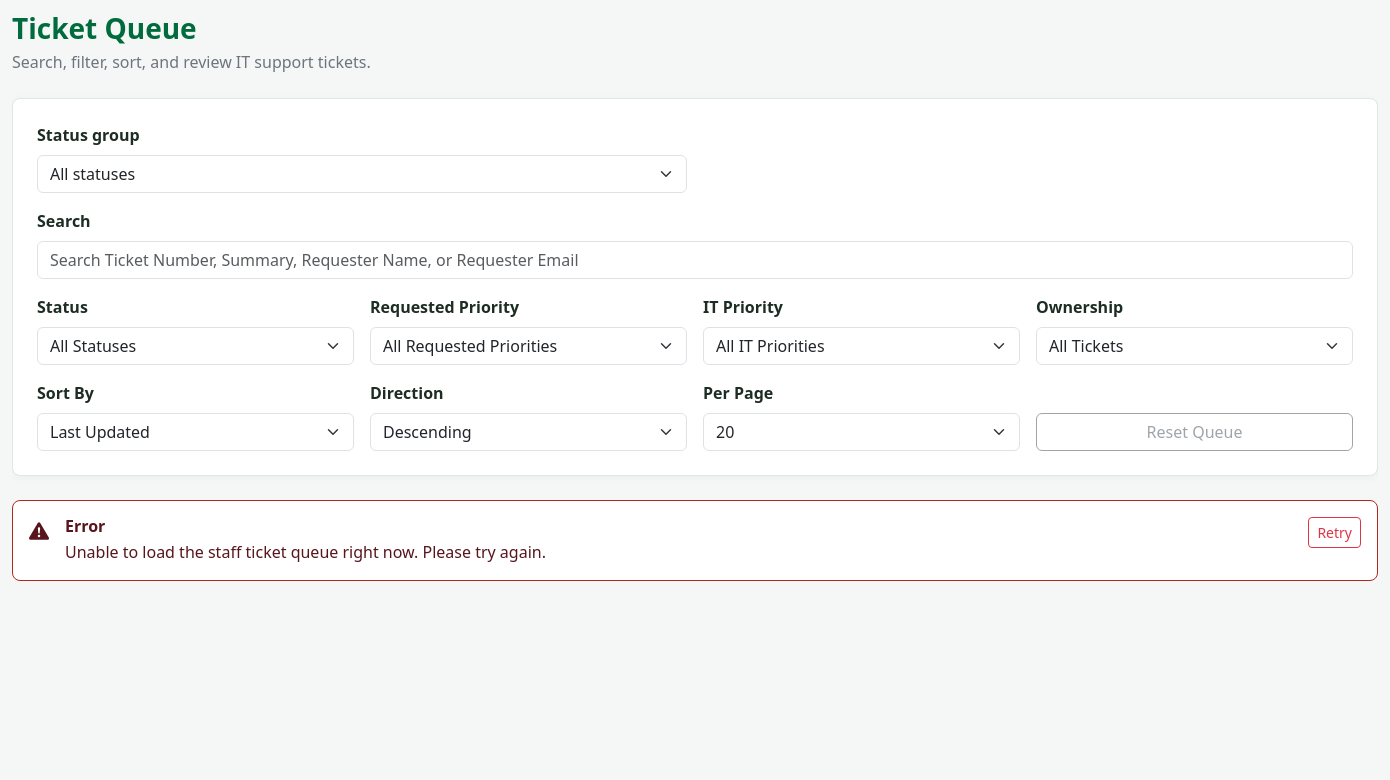
Test: Lab 3 Staff Ticket Queue UI › shows a safe failure state and supports retry
Expected: the text "Unable to load the staff ticket queue right now. Please try again." is shown, [65,541,546,563]
Click the button "Retry".
click(1335, 532)  # box [1308,517,1361,548]
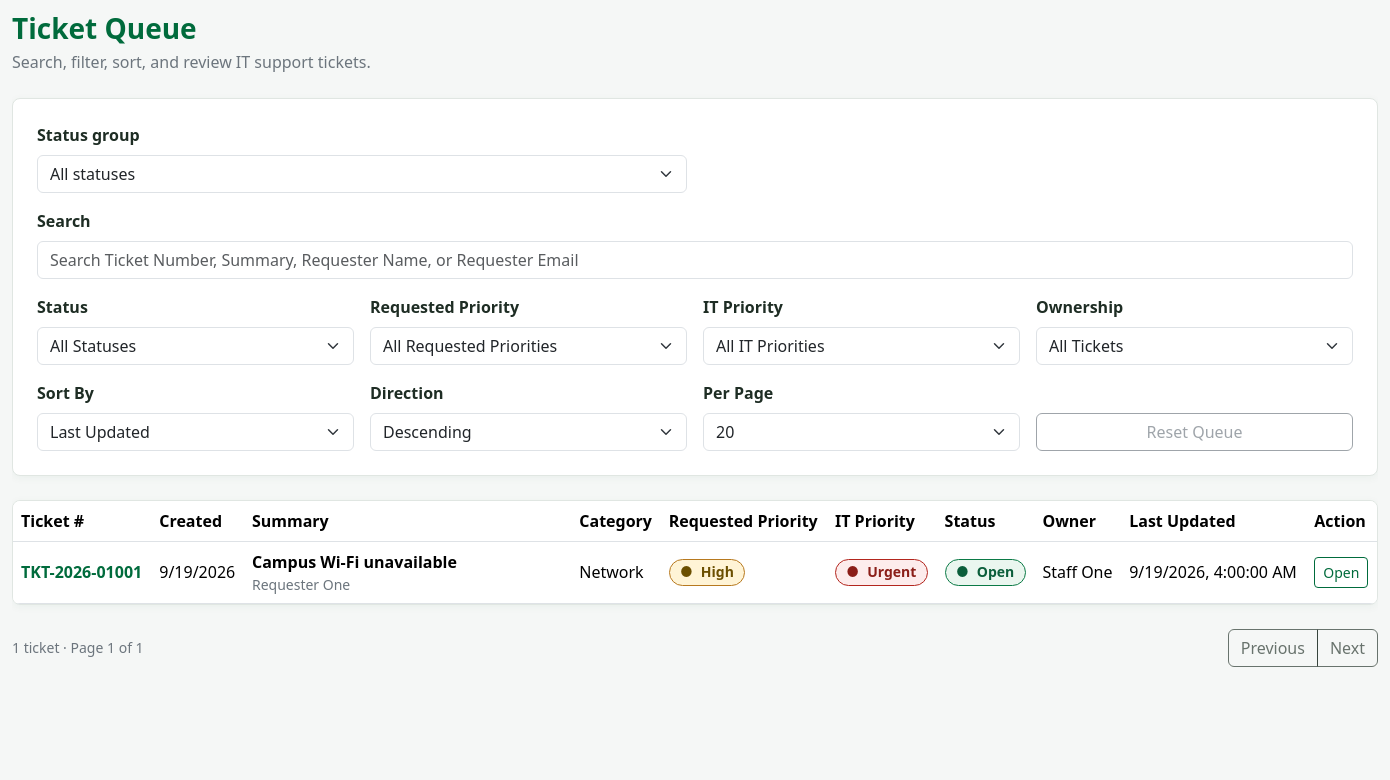
Expected: the text "TKT-2026-01001" is shown, [13,541,151,603]
